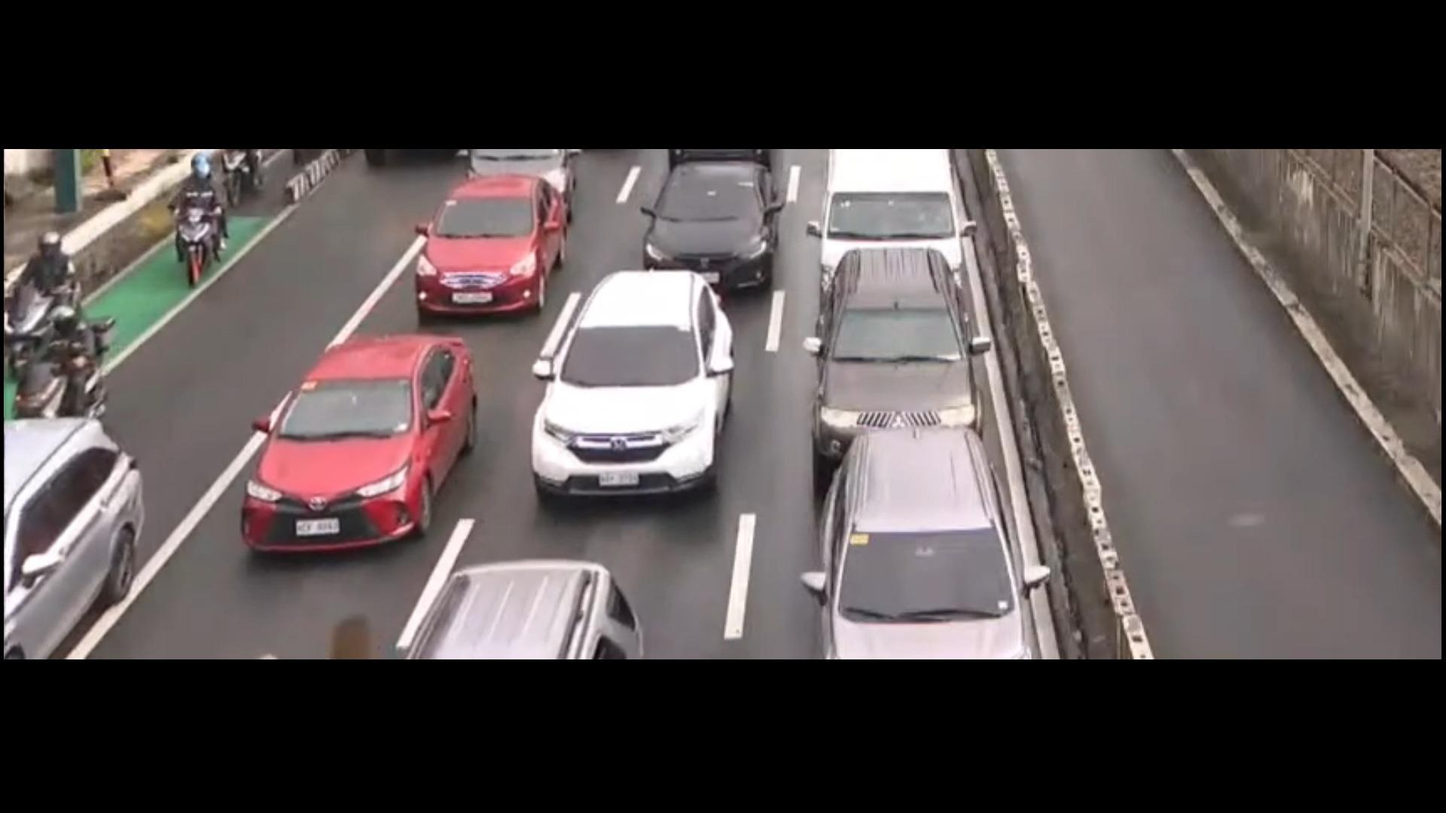Motorcycle: (9, 309, 136, 435), (156, 160, 233, 305), (4, 220, 87, 333)
SUV: (800, 427, 1052, 655), (525, 262, 746, 497), (804, 247, 990, 469), (0, 422, 141, 649), (392, 557, 655, 662)
Sedan: (233, 324, 473, 563), (407, 177, 570, 318), (633, 160, 798, 294)
Van: (808, 147, 972, 316)
